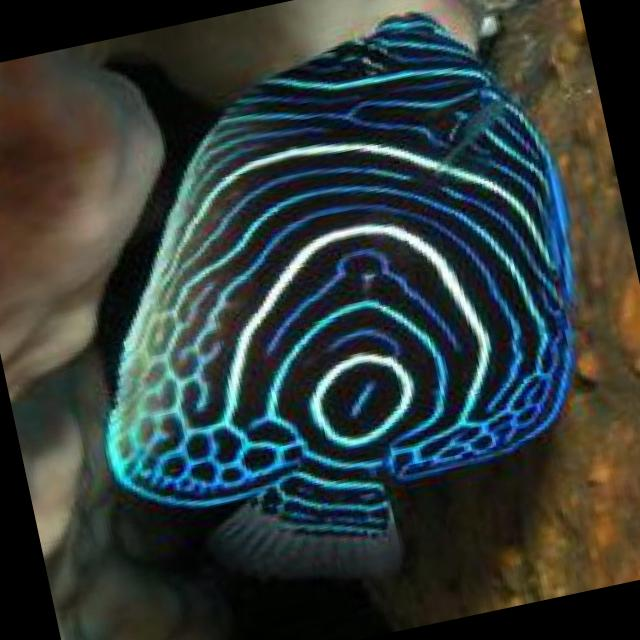AngelFish: (32, 0, 639, 614)
